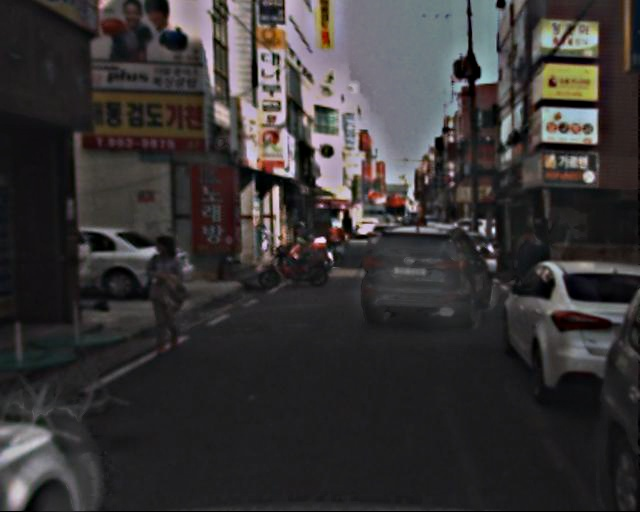person: (140, 231, 201, 357), (516, 224, 555, 311)
